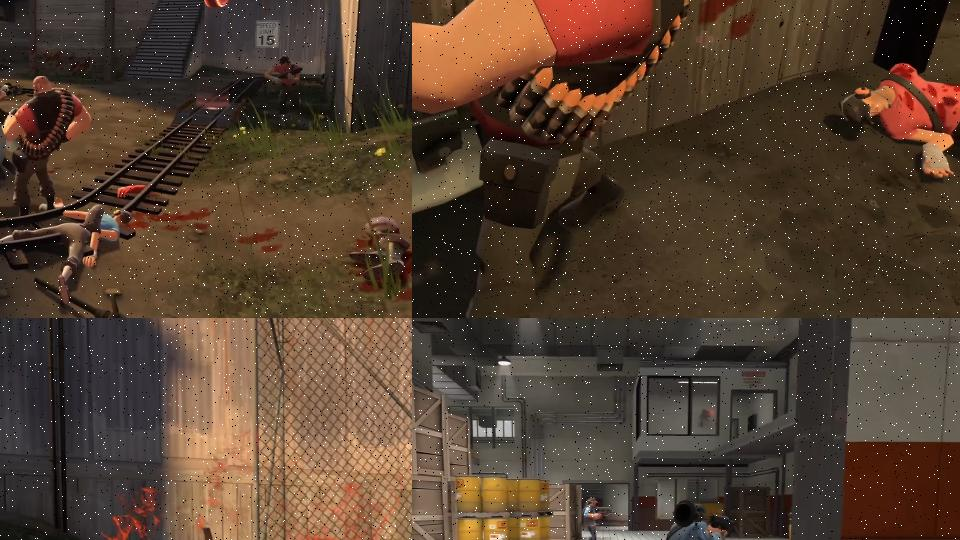Enemy: (412, 0, 710, 314), (833, 62, 960, 186), (0, 197, 132, 305), (0, 75, 92, 216), (646, 505, 729, 540), (265, 56, 303, 128), (571, 496, 617, 540)
